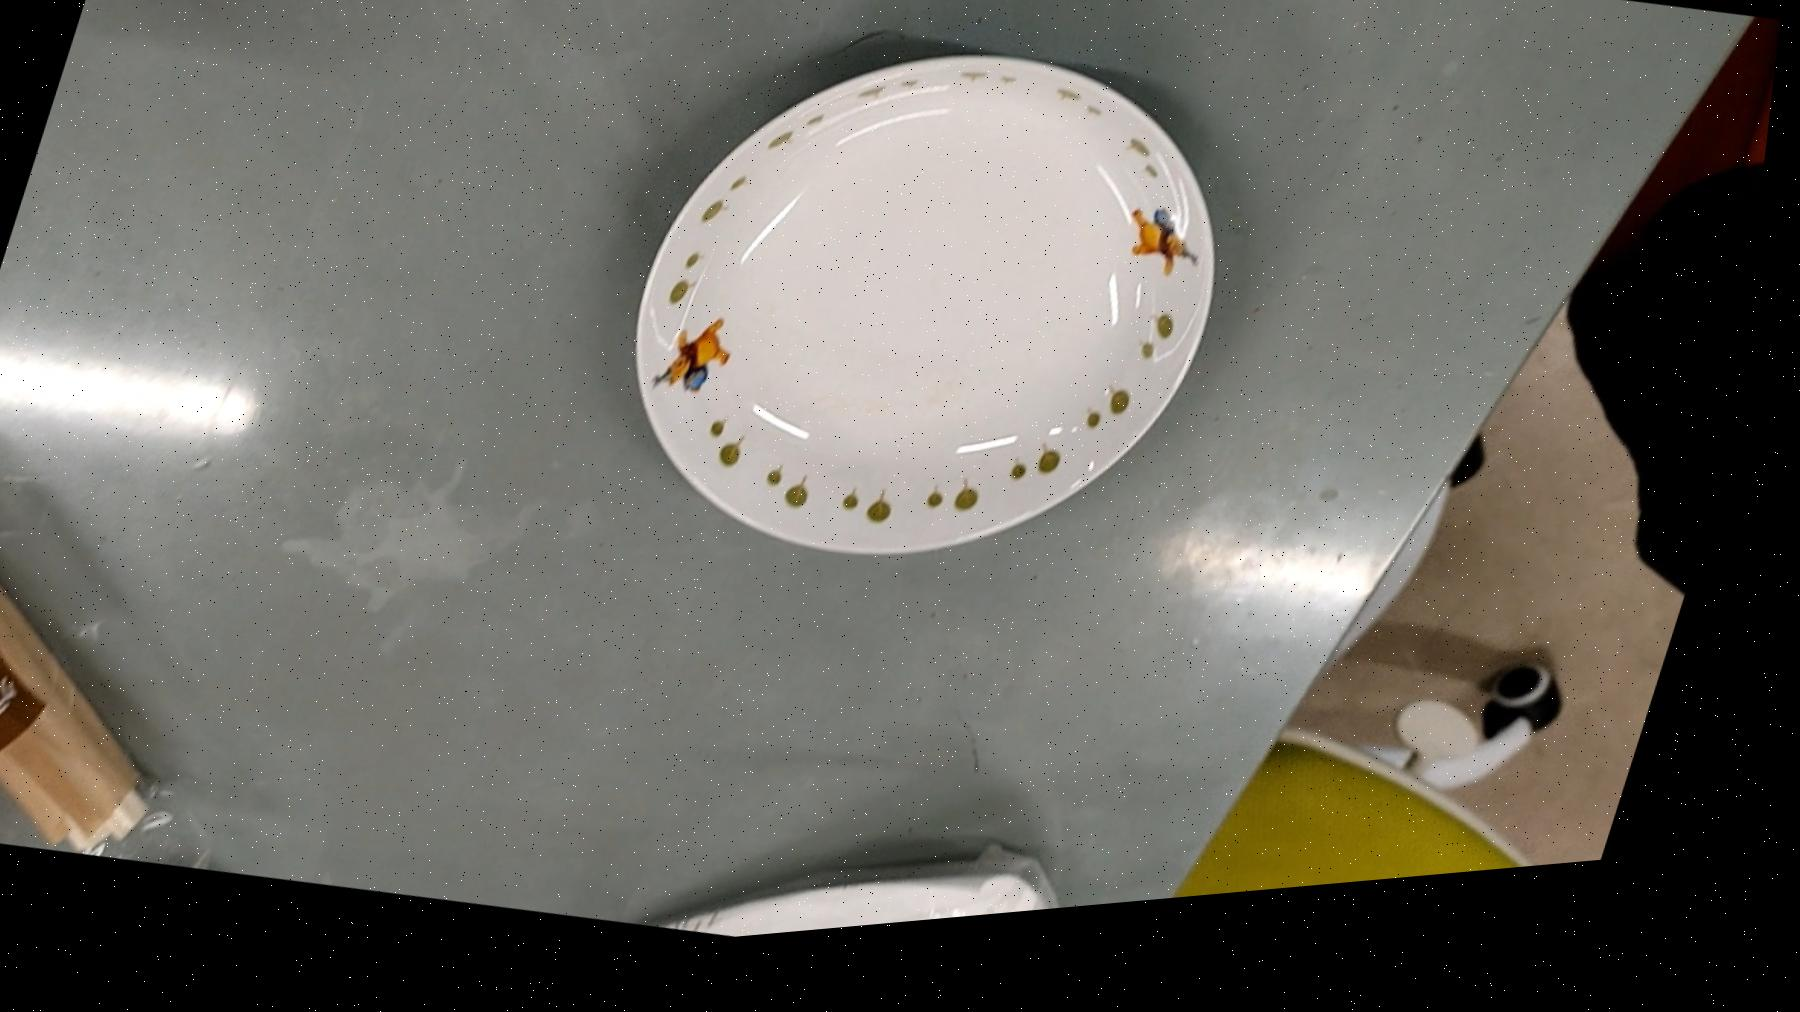plate: (579, 0, 1294, 651)
